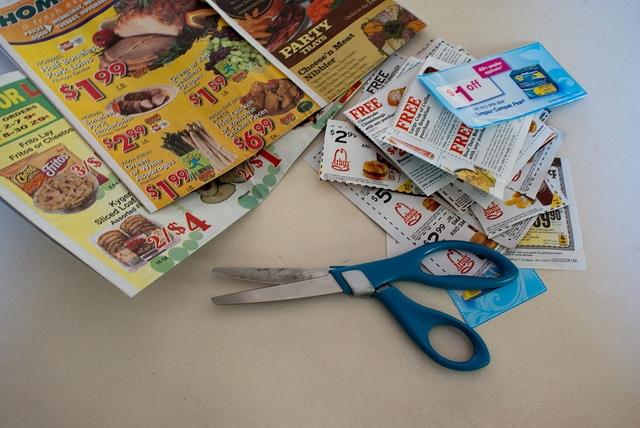asparagus: (182, 135, 222, 172), (160, 130, 196, 158)
avocado: (214, 159, 247, 184), (200, 182, 236, 204), (196, 180, 218, 196)
